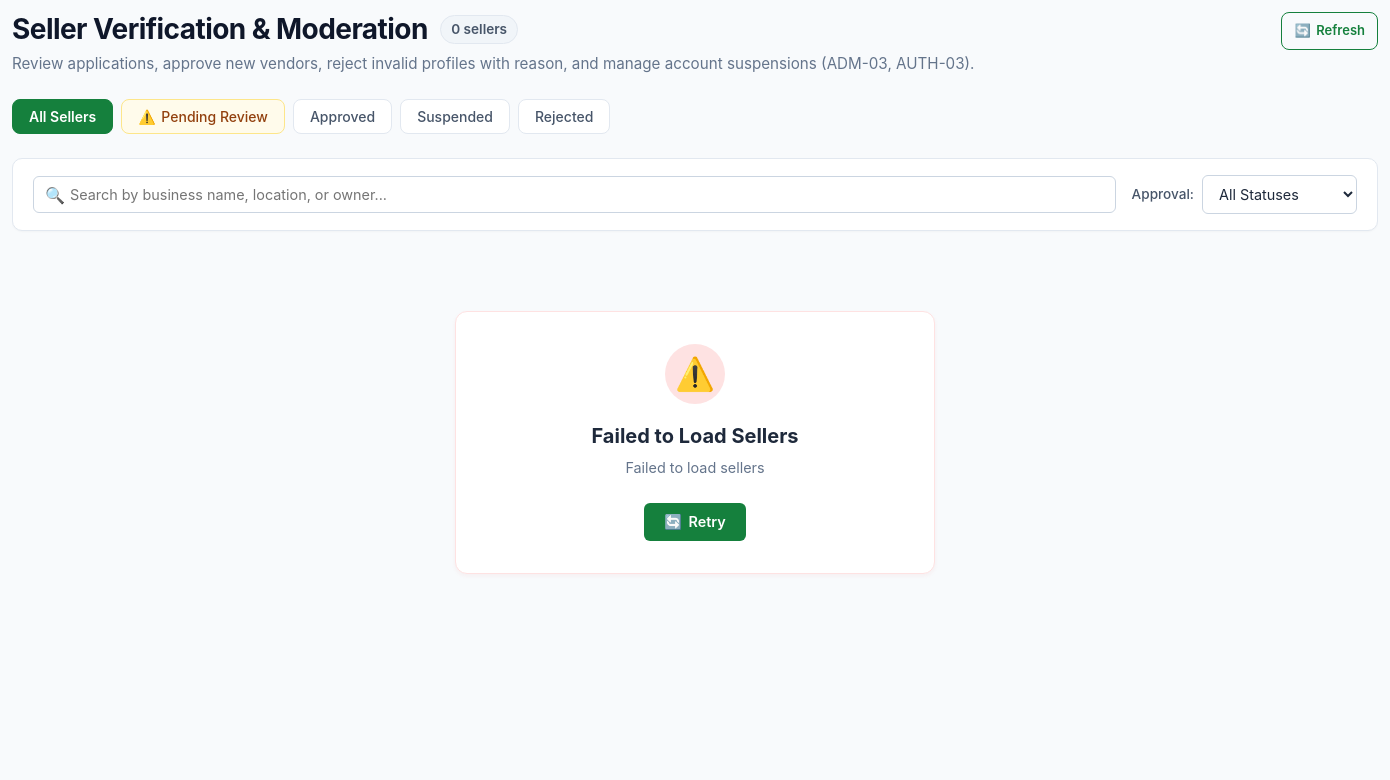
FE-098 / ADM-03: Admin Sellers Moderation Page › 8. Empty & Error States › shows ErrorState with retry button when getSellers fails
The image size is (1390, 780).
Expected: the element with test id "sellers-error-state" is shown, x1=455 y1=311 x2=935 y2=574
Click the button "🔄 Retry" at {"x": 695, "y": 522}, box x1=644 y1=503 x2=746 y2=541
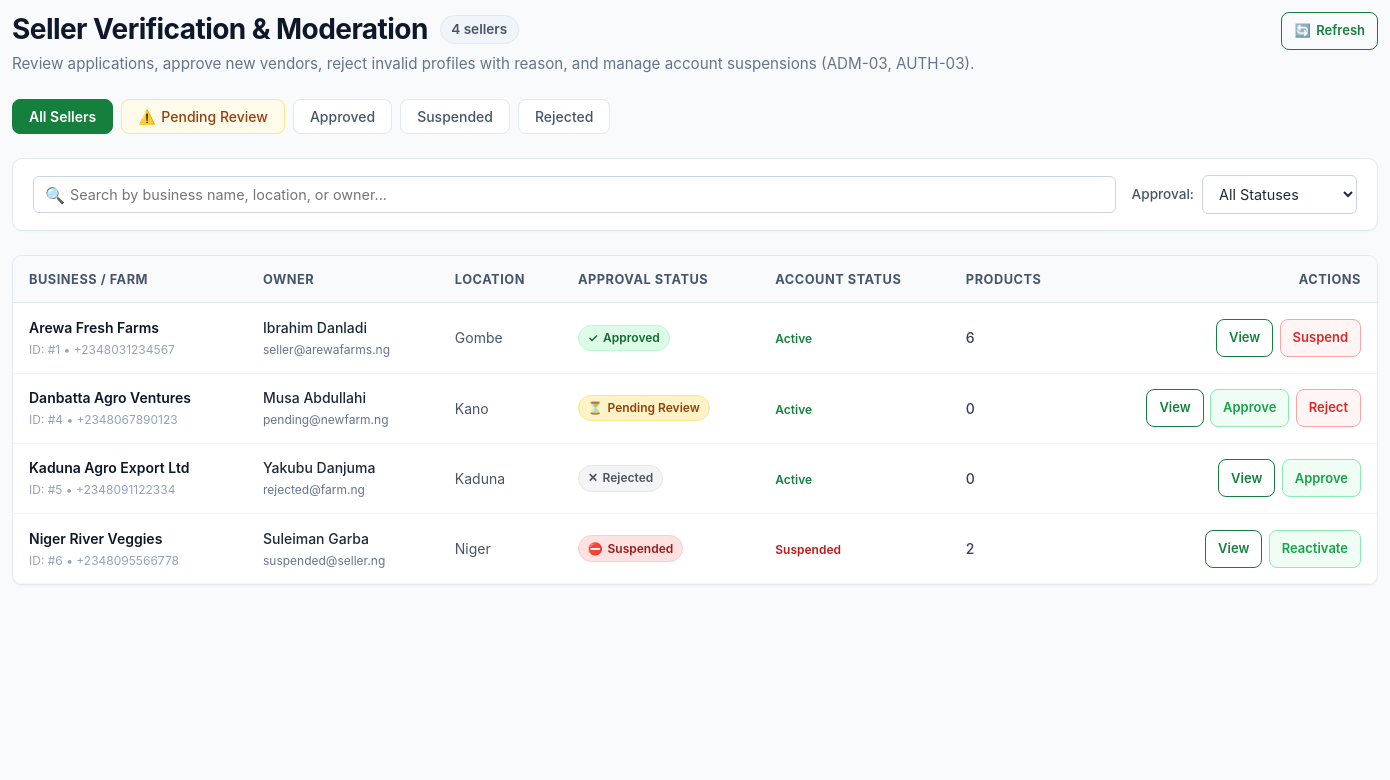
Now the table with test id "sellers-table" is shown, box x1=13 y1=256 x2=1377 y2=584
